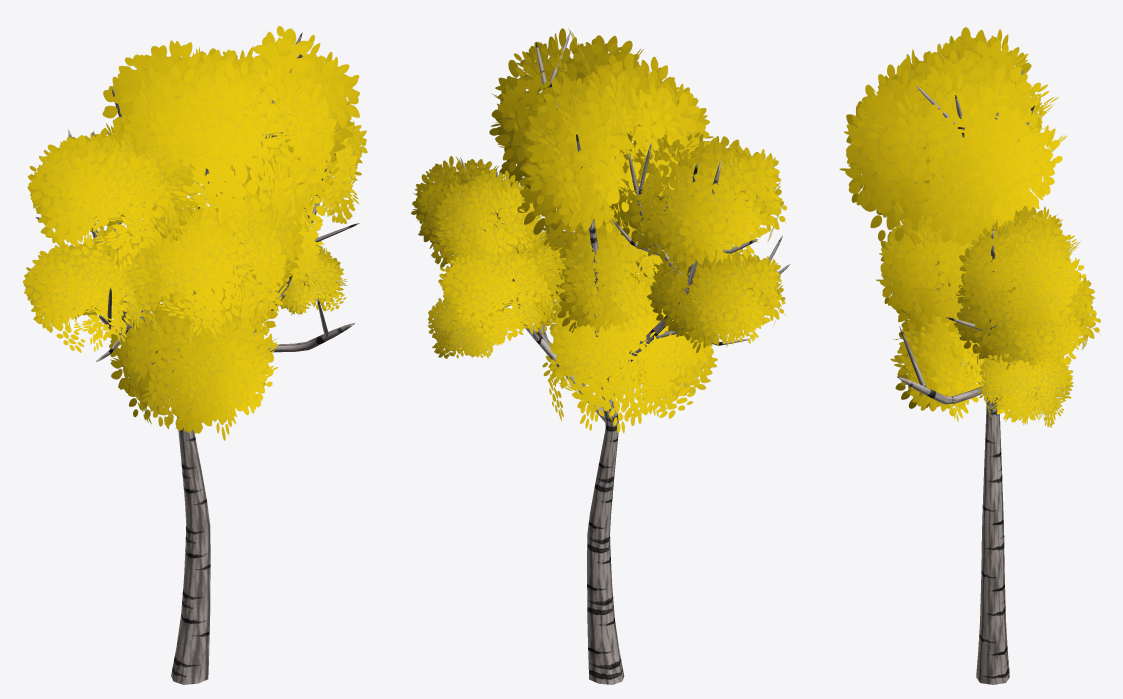
Rendered from birch-tree-3.glb.
3 views of the same model, side by side, from view 1: azimuth 30°, elevation 25°; view 2: azimuth 150°, elevation 25°; view 3: azimuth 270°, elevation 25° (orthographic). The views are drawn at different scales.
Visible parts, largest first — view 1: BirchTree_3; view 2: BirchTree_3; view 3: BirchTree_3.
Part boxes in pixels (box(x1,y1,x2,y2)): BirchTree_3: box(23, 26, 367, 684); BirchTree_3: box(411, 28, 790, 684); BirchTree_3: box(839, 27, 1100, 684).
Size of the model in its own units: 3.43 by 5.75 by 2.27.
2 materials, 2 textured.
